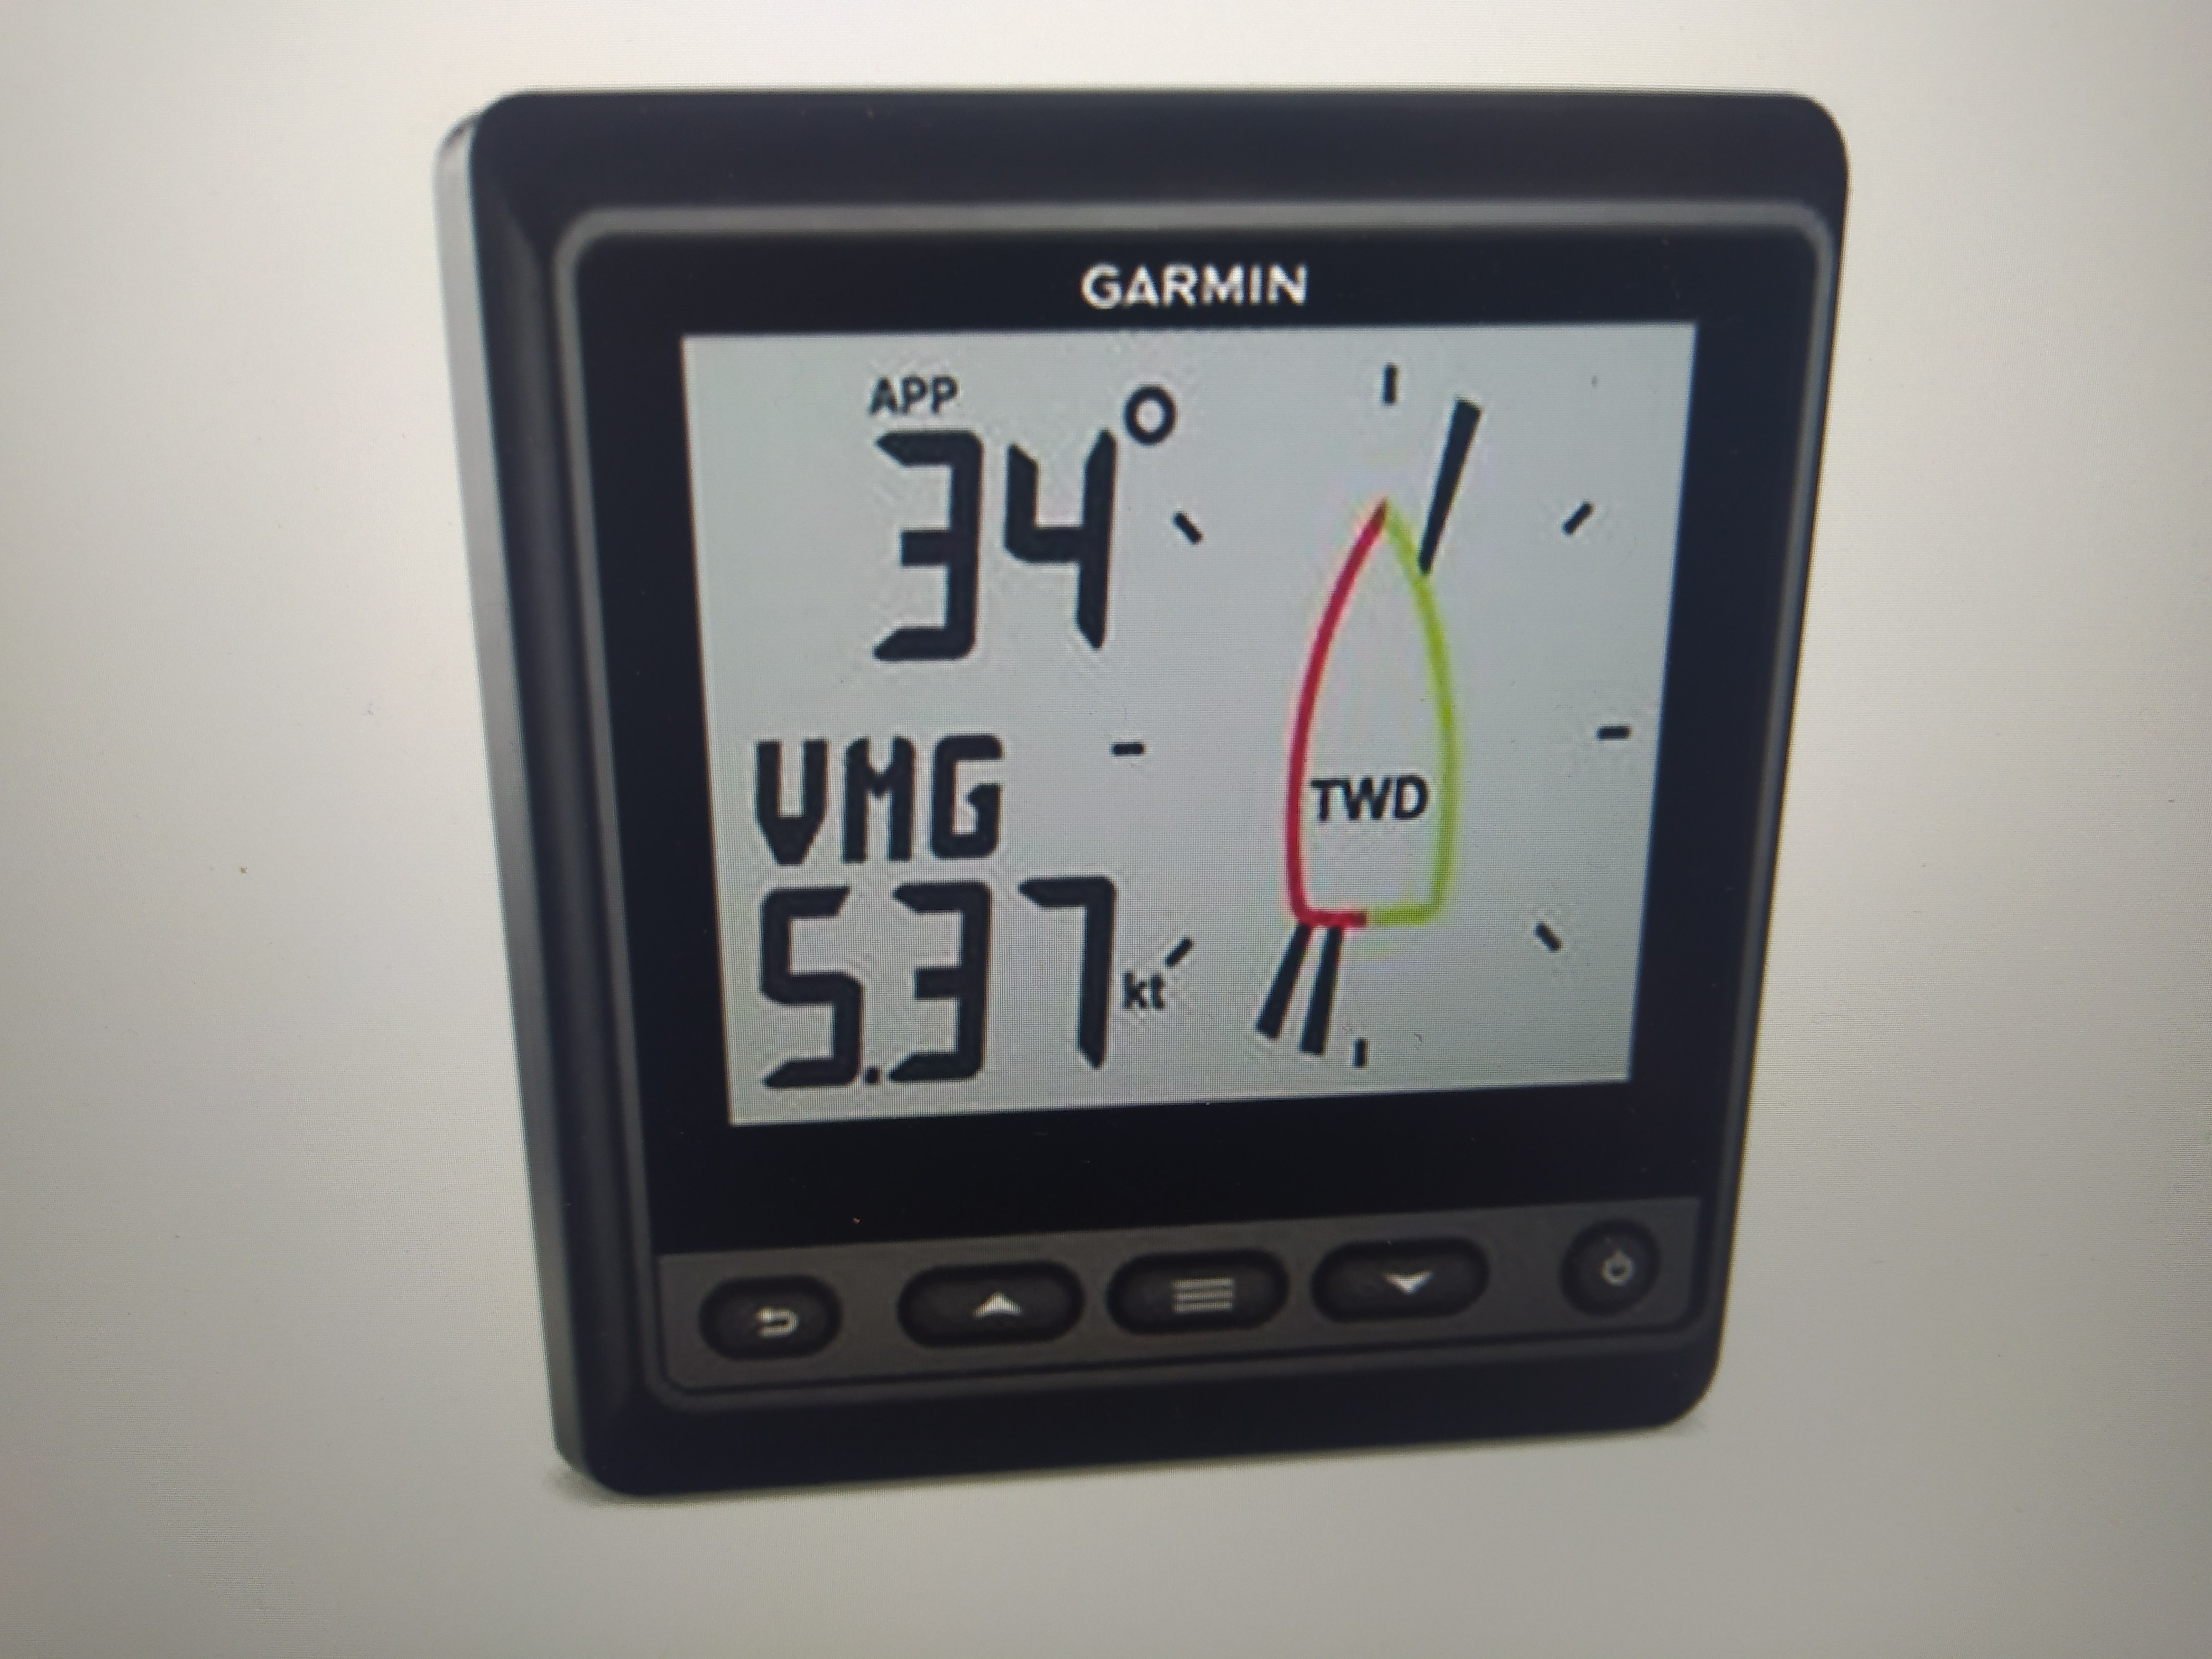.: (862, 882, 885, 1087)
3: (873, 429, 988, 659), (890, 880, 996, 1080)
4: (1001, 432, 1123, 652)
5: (752, 885, 864, 1089)
7: (1019, 877, 1115, 1077)
